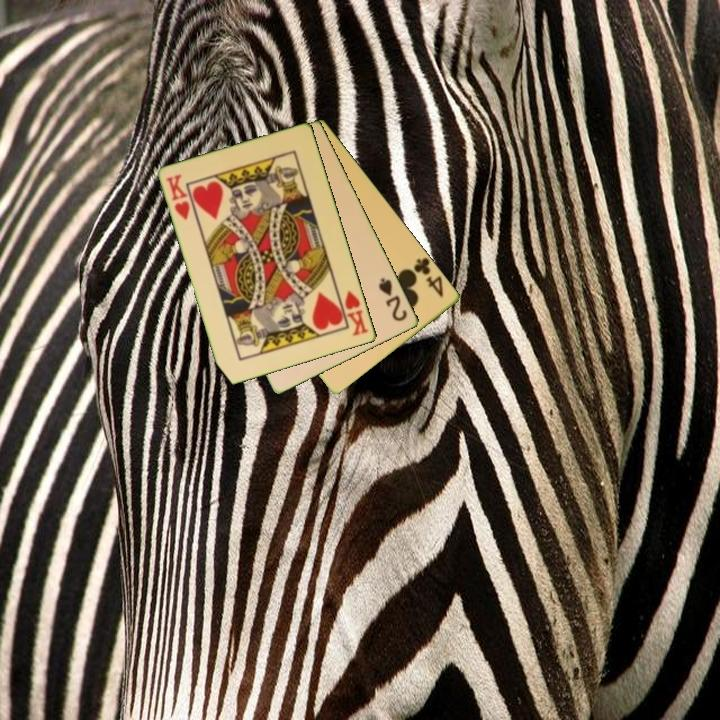2s: (375, 274, 410, 324)
4c: (410, 254, 447, 301)
Kh: (335, 286, 372, 339), (163, 171, 193, 223)
